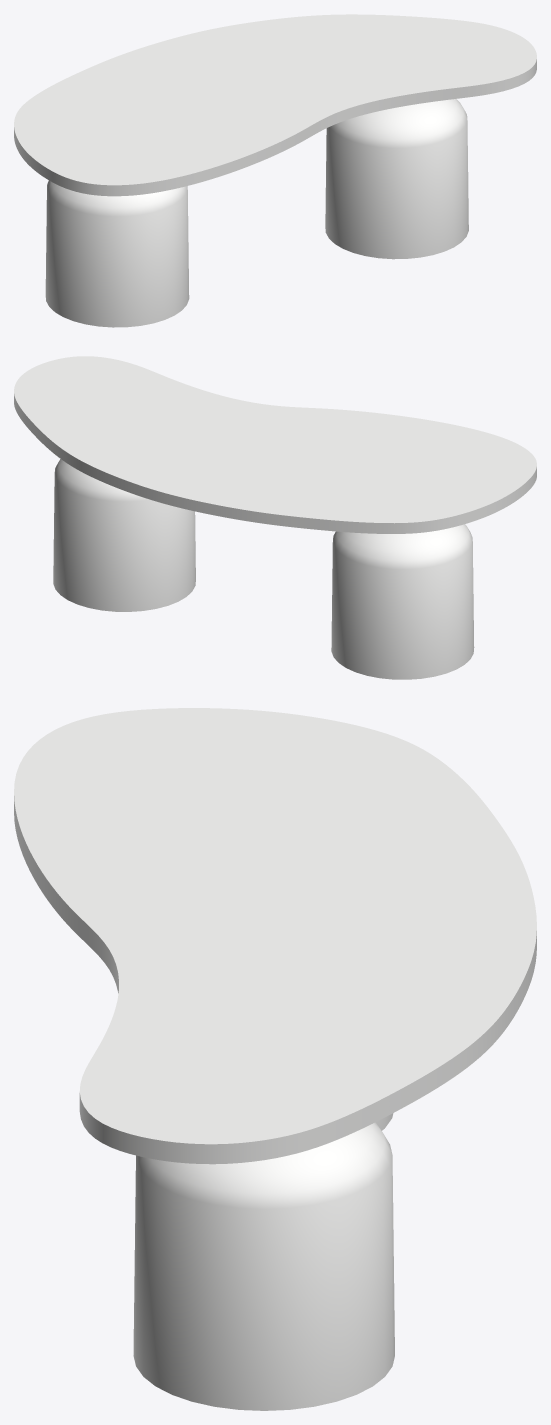
The model's file is purewhite_leaf1_standard_tornado.glb.
The picture shows the model from 3 angles, top to bottom: view 1: azimuth 30°, elevation 25°; view 2: azimuth 150°, elevation 25°; view 3: azimuth 270°, elevation 25°; orthographic projection. The views are drawn at different scales.
Visible parts, largest first — view 1: standard_leaf1, tornado; view 2: standard_leaf1, tornado; view 3: standard_leaf1, tornado.
Boxes of the visible parts, x1,y1,x2,y2 form: standard_leaf1: (14, 14, 536, 196); tornado: (45, 99, 468, 327); standard_leaf1: (14, 356, 536, 533); tornado: (53, 459, 474, 679); standard_leaf1: (14, 708, 536, 1164); tornado: (133, 1113, 394, 1410).
Bounding box in the file's own units: 7.5 × 2.51 × 3.8.
Materials: 1 (1 with a texture image).
